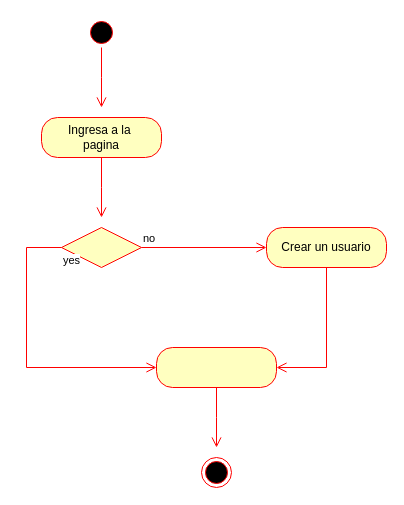
Image size: 404x505. Some labels were removed from this diagram. The centre of each missing label's shape, as x and y in pixels:
"Logear" goes at (216,367).
"User" goes at (101,247).
